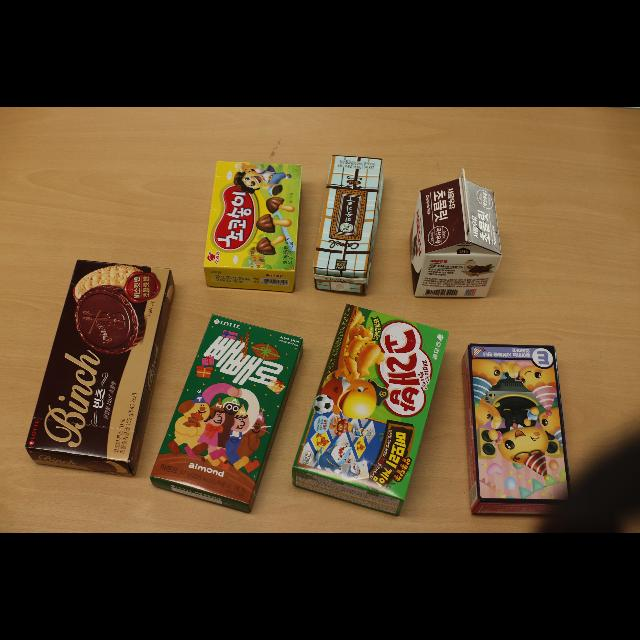box: (292, 304, 449, 516), (24, 260, 174, 477), (150, 315, 303, 513), (463, 344, 570, 515), (203, 161, 302, 292), (313, 154, 383, 294)
milk: (411, 170, 503, 297)
